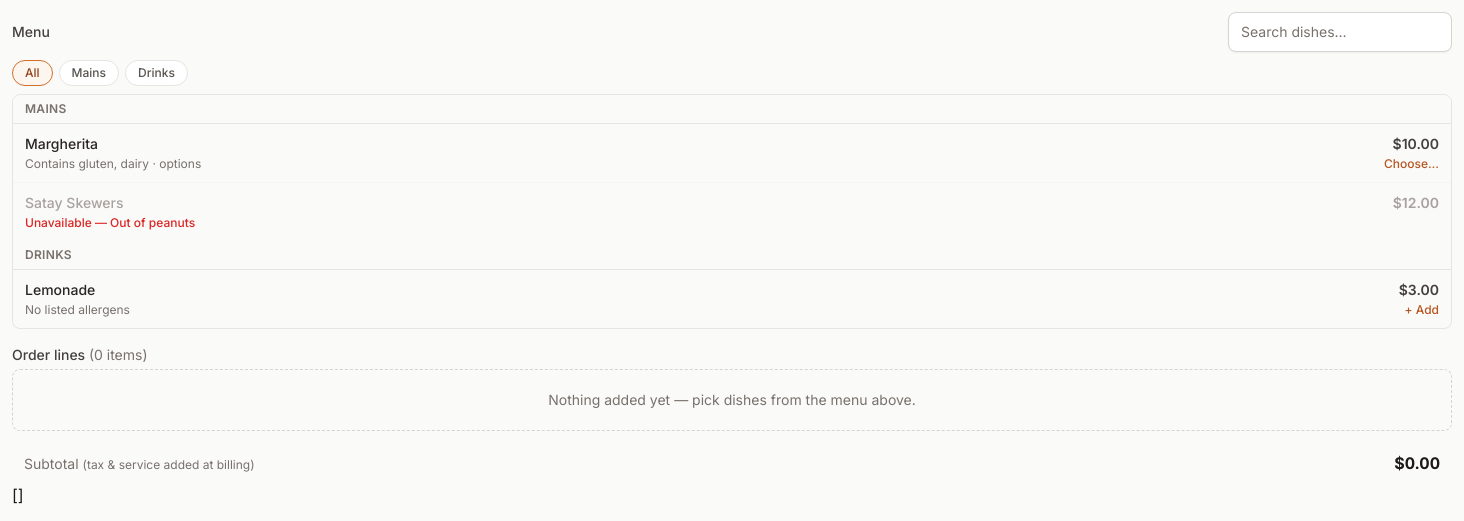
OrderLineEditor › adds a plain dish and merges repeat picks into one line
Expected: the text "Nothing added yet — pick dishes from the menu above." is shown, [12,369,1452,431]
What coordinates should you click on to do the following:
click the button "Lemonade No listed allergens $3.00 + Add"
I would click on:
 (60, 290)
Its box is [13,270,1451,328].
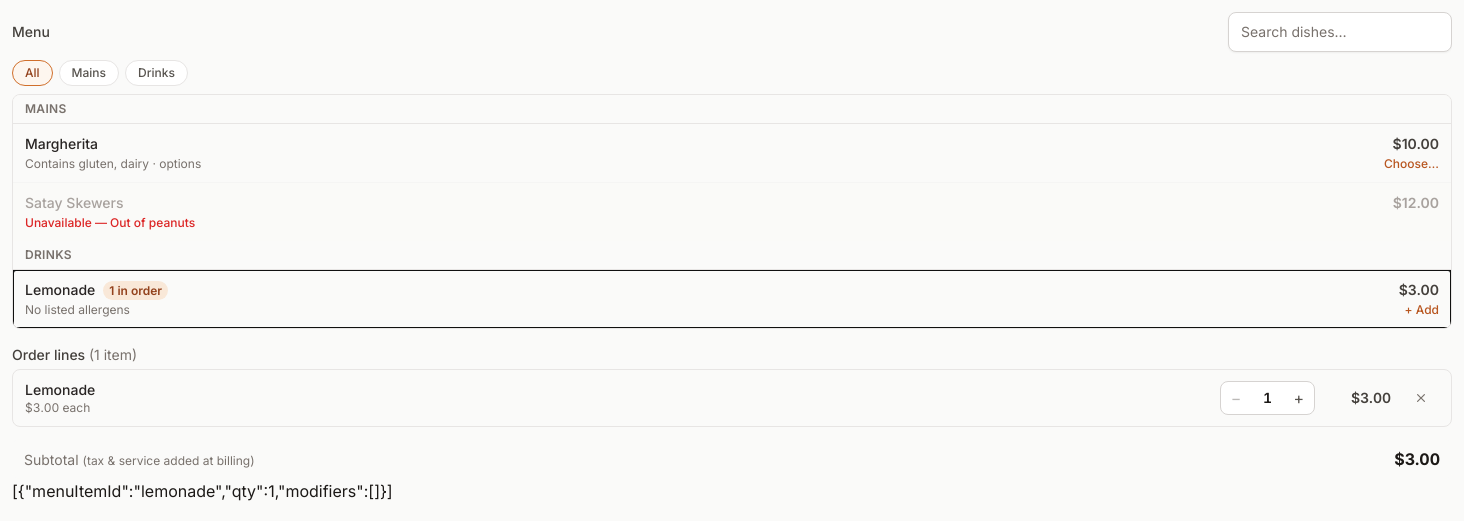
What coordinates should you click on to do the following:
click the button "Lemonade1 in order No listed allergens $3.00 + Add"
I would click on:
 (60, 290)
Its box is [13,270,1451,328].
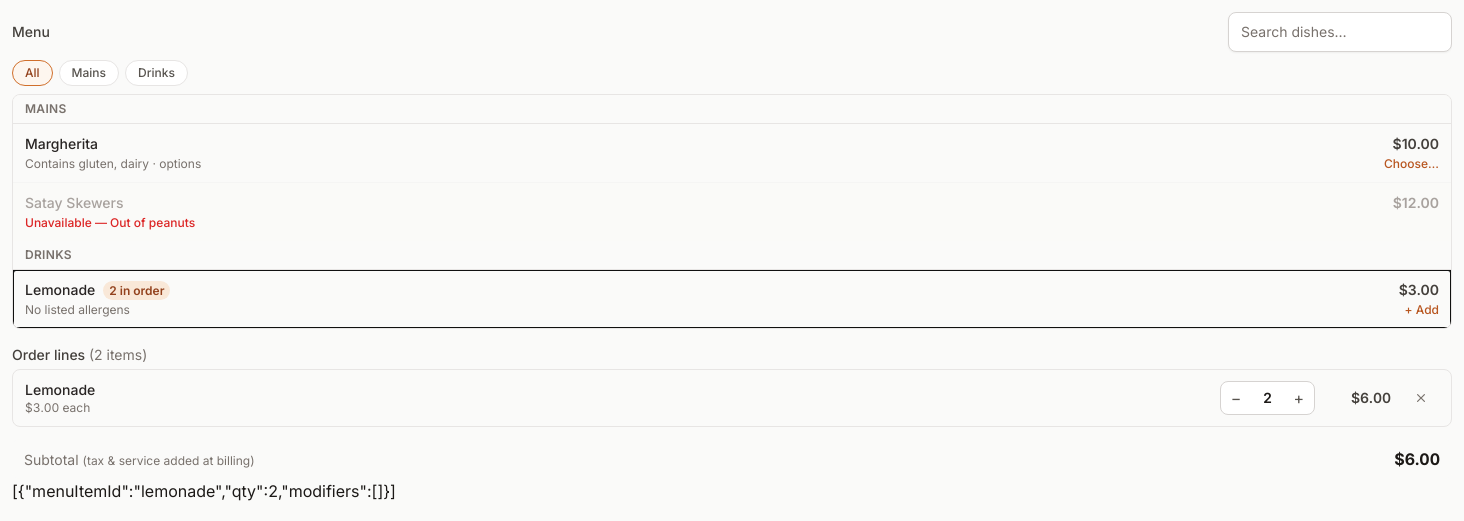
Result: the text "2 in order" is shown at [103,281,170,300]
Result: the text "(2 items)" is shown at [89,346,147,363]
Result: the text "$6.00" in the row of "(tax & service added at billing)" is shown at [1394,449,1440,469]
